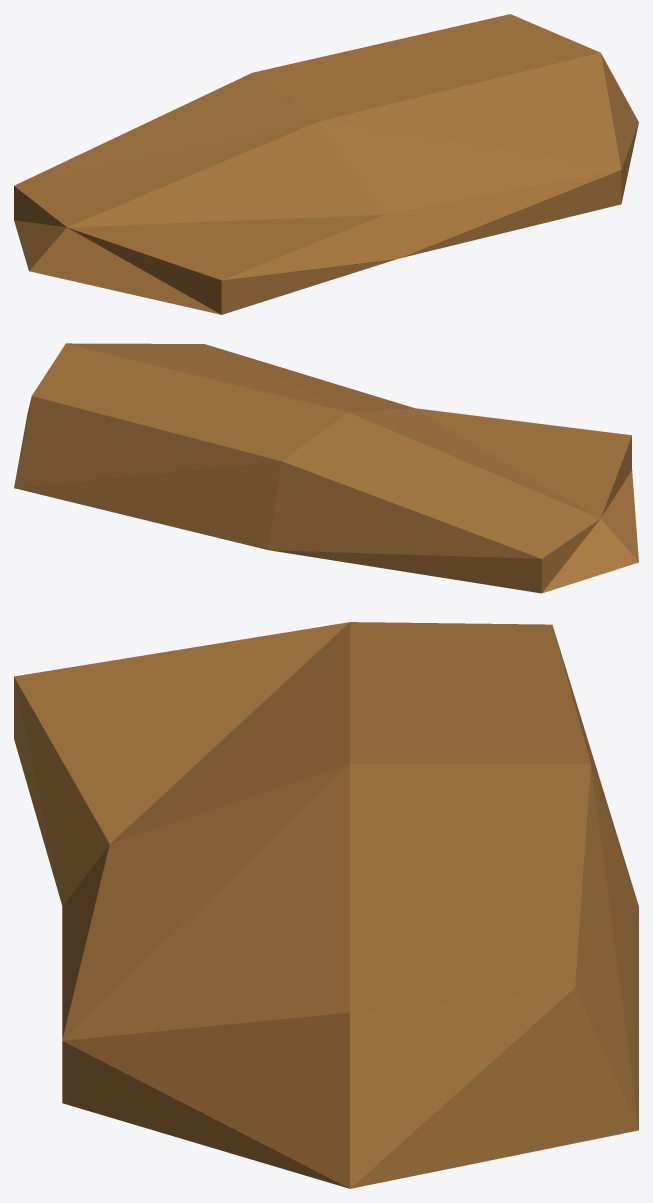
The model's file is Stone_3.fbx.
3 views of the same model, one above another, from view 1: azimuth 30°, elevation 25°; view 2: azimuth 150°, elevation 25°; view 3: azimuth 270°, elevation 25° (orthographic). The views are drawn at different scales.
Parts seen in each view (by area): view 1: Stone_3; view 2: Stone_3; view 3: Stone_3.
Part boxes in pixels (<box>): Stone_3: <box>14,14,638,314</box>; Stone_3: <box>14,343,638,593</box>; Stone_3: <box>14,622,638,1188</box>.
Bounding box in the file's own units: 43.8 × 21.5 × 5.42.
